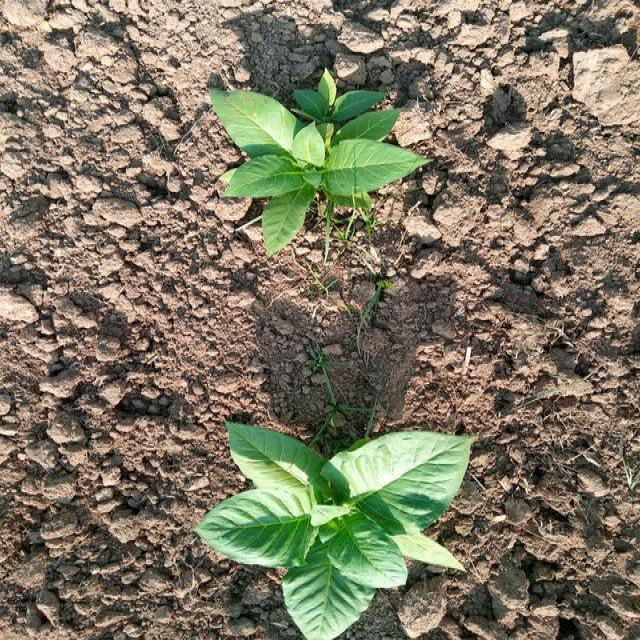crop: (200, 416, 474, 640), (206, 76, 432, 256)
